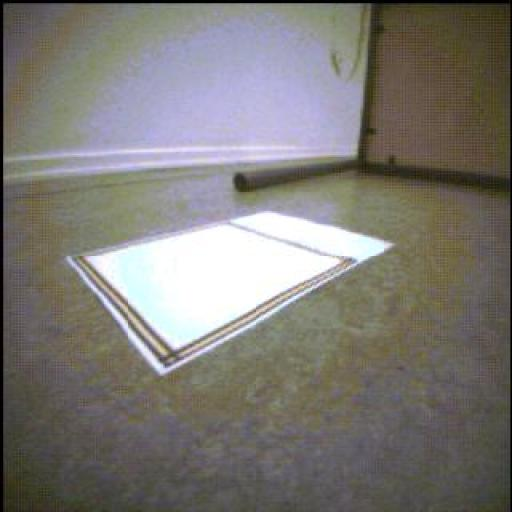Pad: (68, 213, 393, 376)
